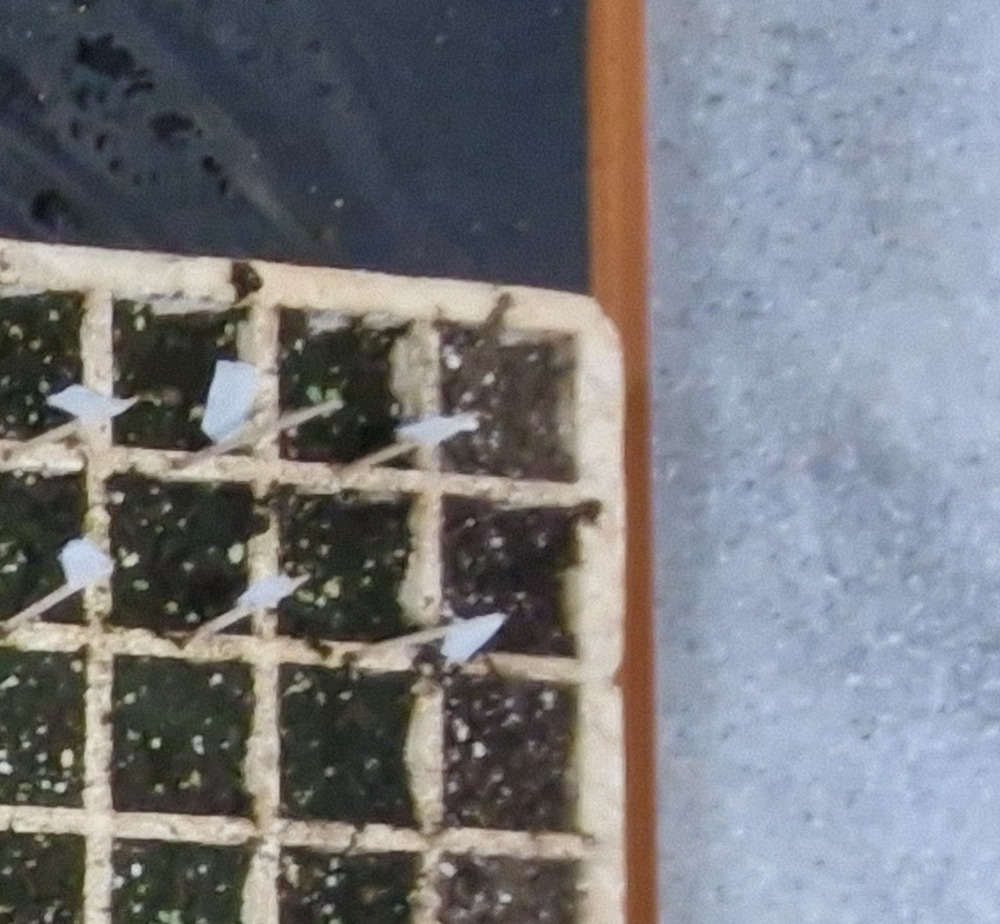Folha: (307, 385, 324, 403), (326, 389, 341, 402)
Germinacao: (307, 383, 343, 405), (329, 918, 347, 924)
